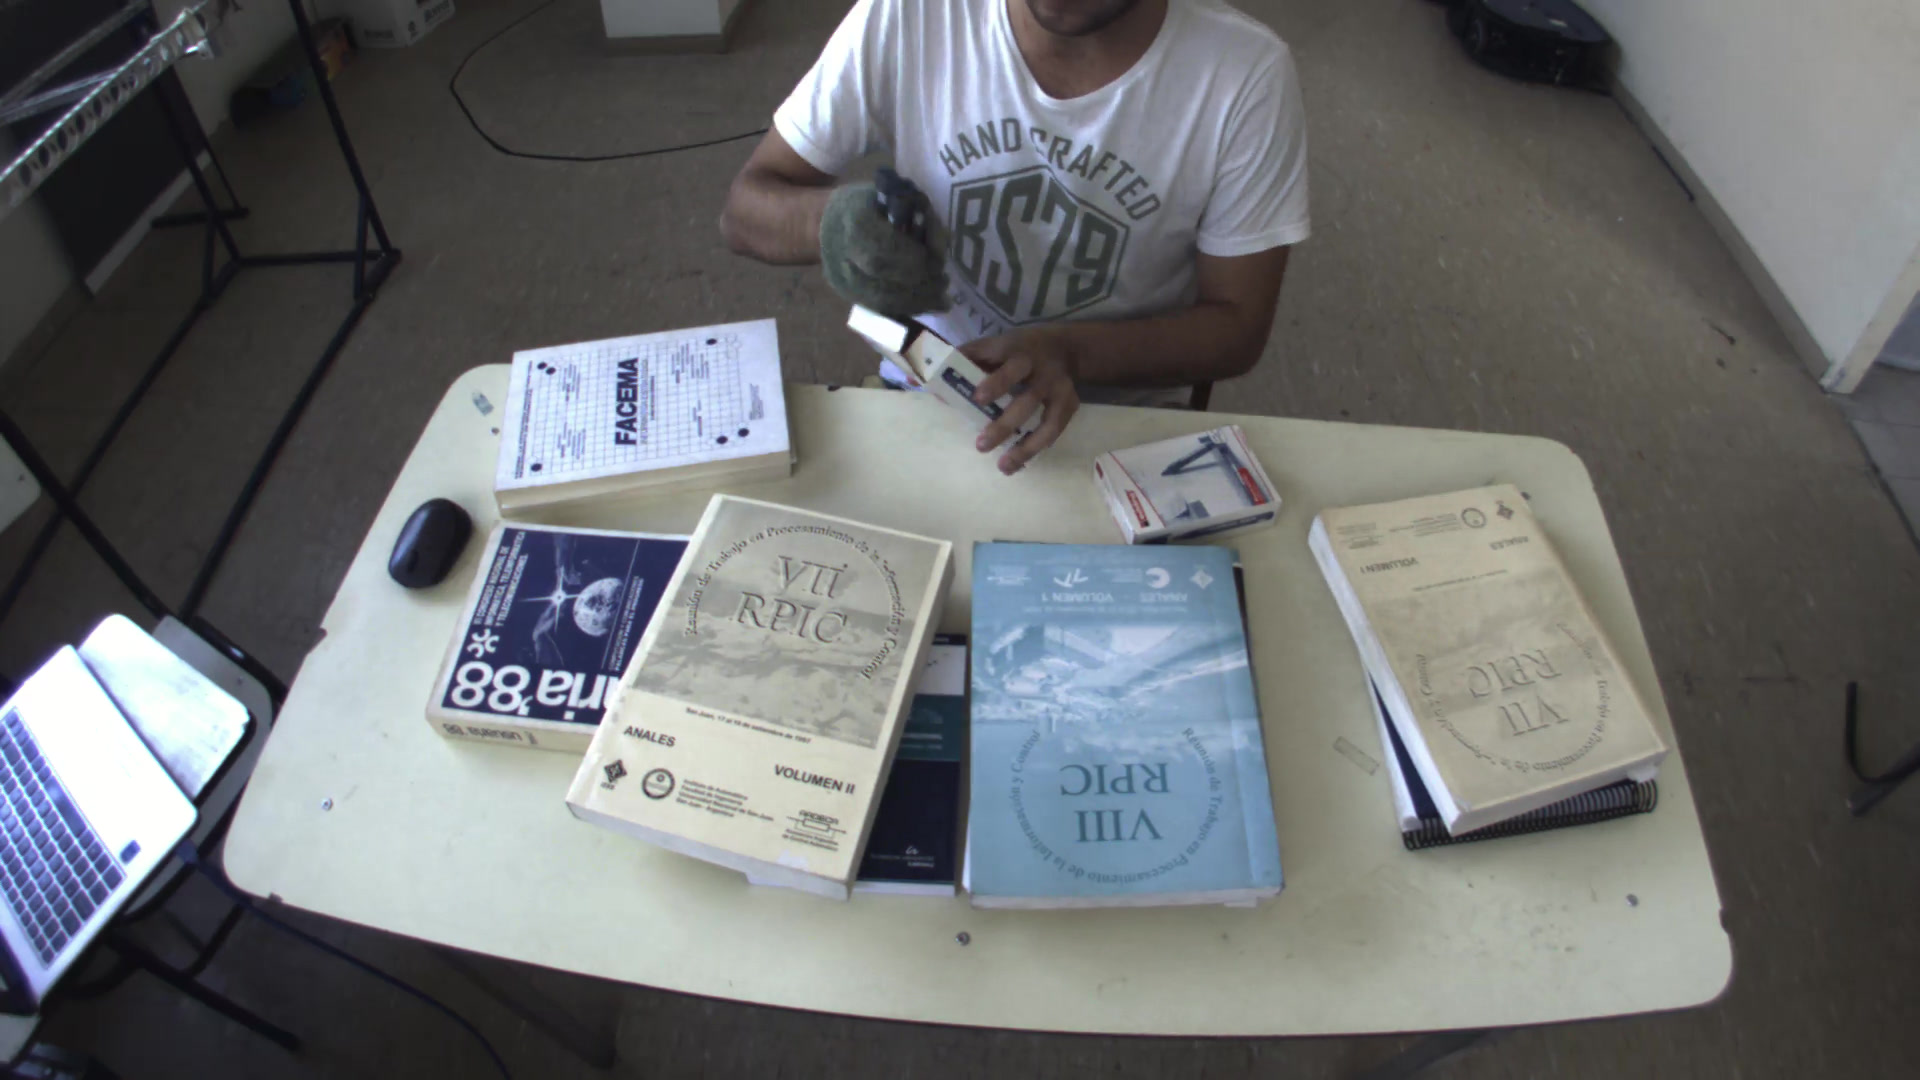hand: (949, 310, 1098, 477), (811, 167, 952, 309)
